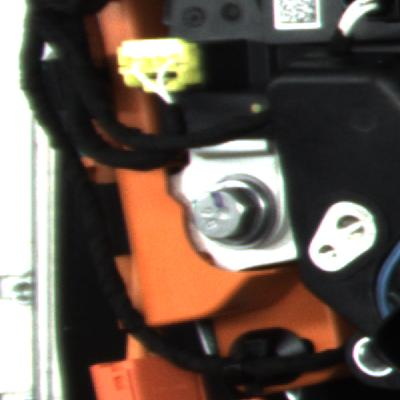nut_b: (183, 170, 281, 257)
